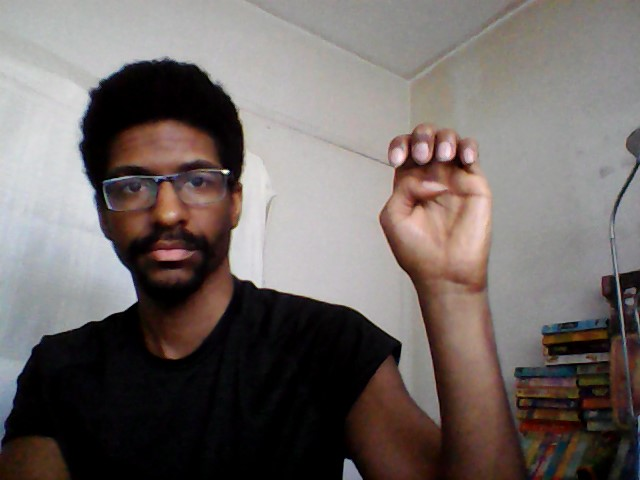e: (373, 119, 499, 291)
